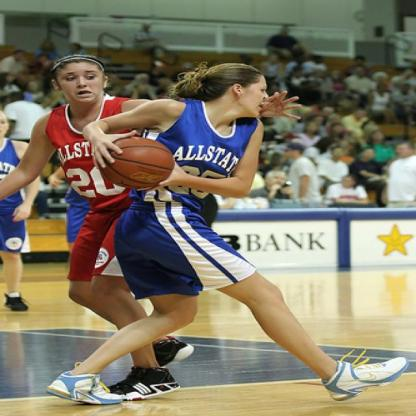basketball: (98, 137, 174, 188)
